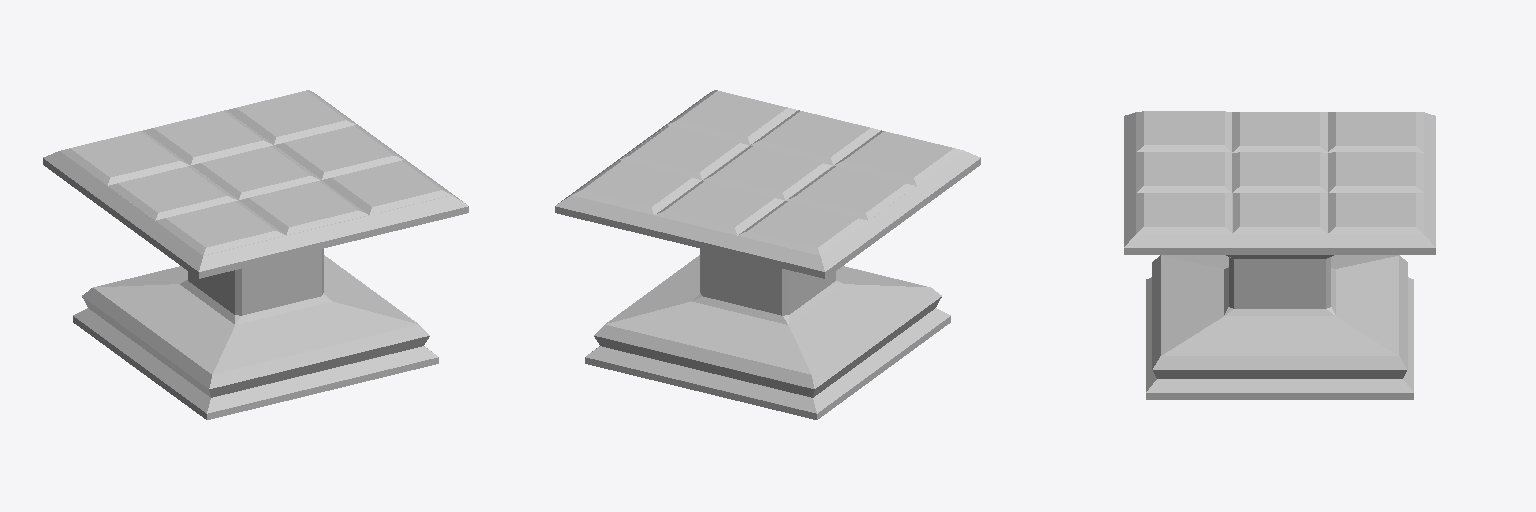
The model's file is table.obj.
3 views of the same model, side by side, from view 1: azimuth 30°, elevation 25°; view 2: azimuth 150°, elevation 25°; view 3: azimuth 270°, elevation 25° (orthographic).
Visible parts, largest first — view 1: Cube; view 2: Cube; view 3: Cube.
Part boxes in pixels (left/top/right/bottom): Cube: left=43, top=90, right=468, bottom=419; Cube: left=555, top=90, right=980, bottom=419; Cube: left=1124, top=111, right=1435, bottom=399.
Bounding box in the file's own units: 4.51 × 2.77 × 4.51.